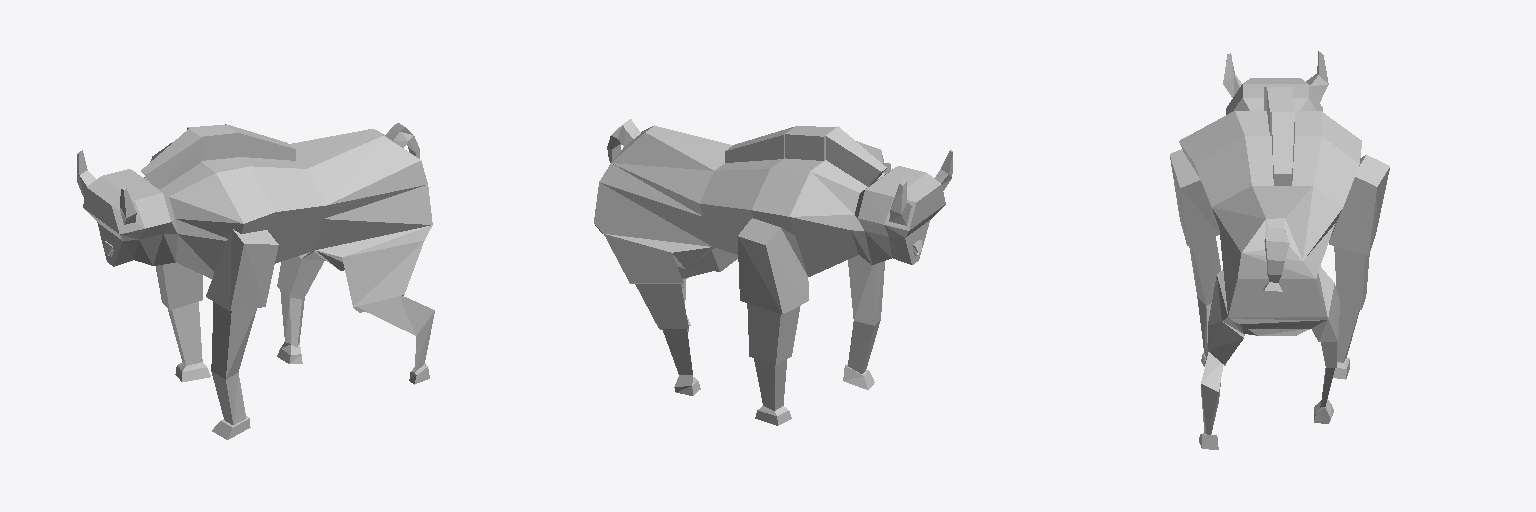
Rendered from bison.obj.
3 renders of one model, left to right at view 1: azimuth 30°, elevation 25°; view 2: azimuth 150°, elevation 25°; view 3: azimuth 270°, elevation 25°, orthographic.
Parts seen in each view (by area): view 1: Cube; view 2: Cube; view 3: Cube.
Part boxes in pixels (x1,y1,x2,y2): Cube: (77,123,434,439); Cube: (594,119,952,425); Cube: (1170,51,1389,449).
Bounding box in the file's own units: 3.93 × 3.26 × 2.35.